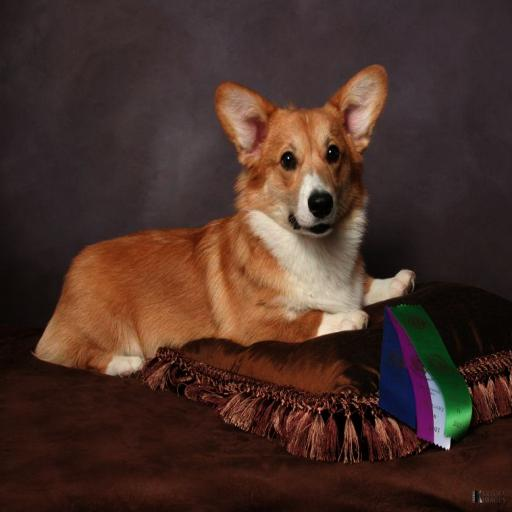dog_face: (216, 59, 389, 254)
